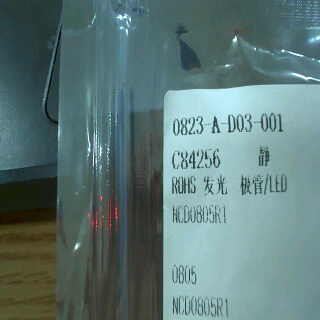LED: (202, 173, 290, 200)
